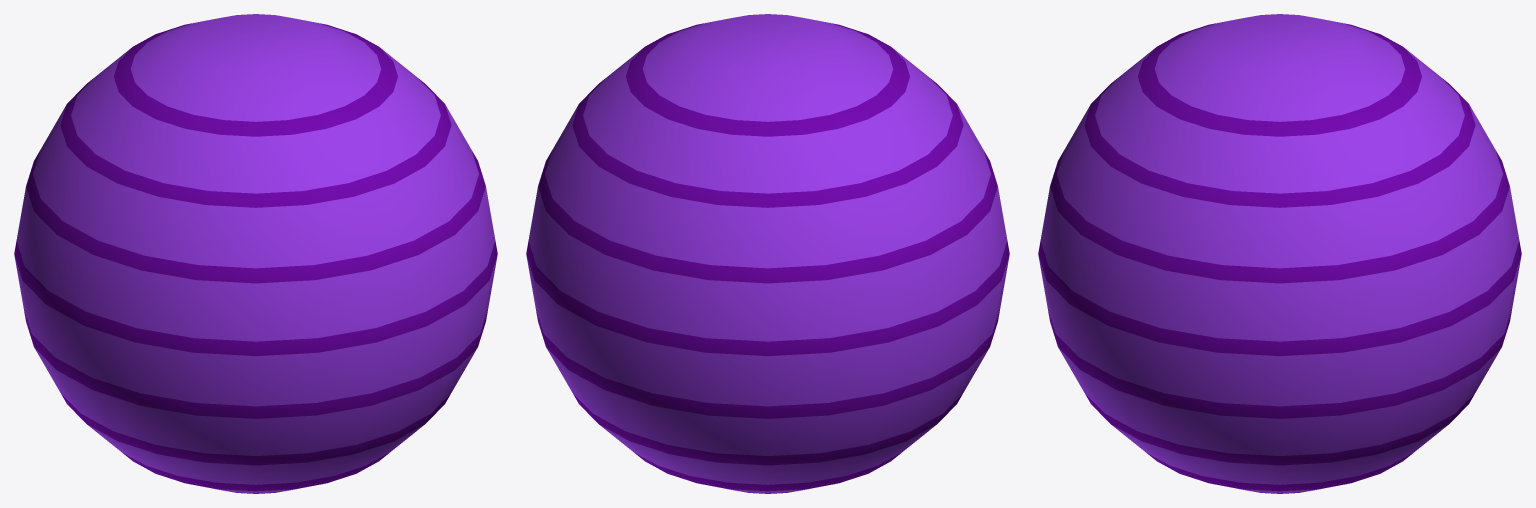
The model's file is Top.fbx.
3 renders of one model, left to right at view 1: azimuth 30°, elevation 25°; view 2: azimuth 150°, elevation 25°; view 3: azimuth 270°, elevation 25°, orthographic.
Visible parts, largest first — view 1: Sphere.001; view 2: Sphere.001; view 3: Sphere.001.
Part boxes in pixels (<box>): Sphere.001: <box>14,14,497,493</box>; Sphere.001: <box>526,14,1009,493</box>; Sphere.001: <box>1038,14,1521,493</box>.
Bounding box in the file's own units: 0.56 × 0.5378 × 0.56.
